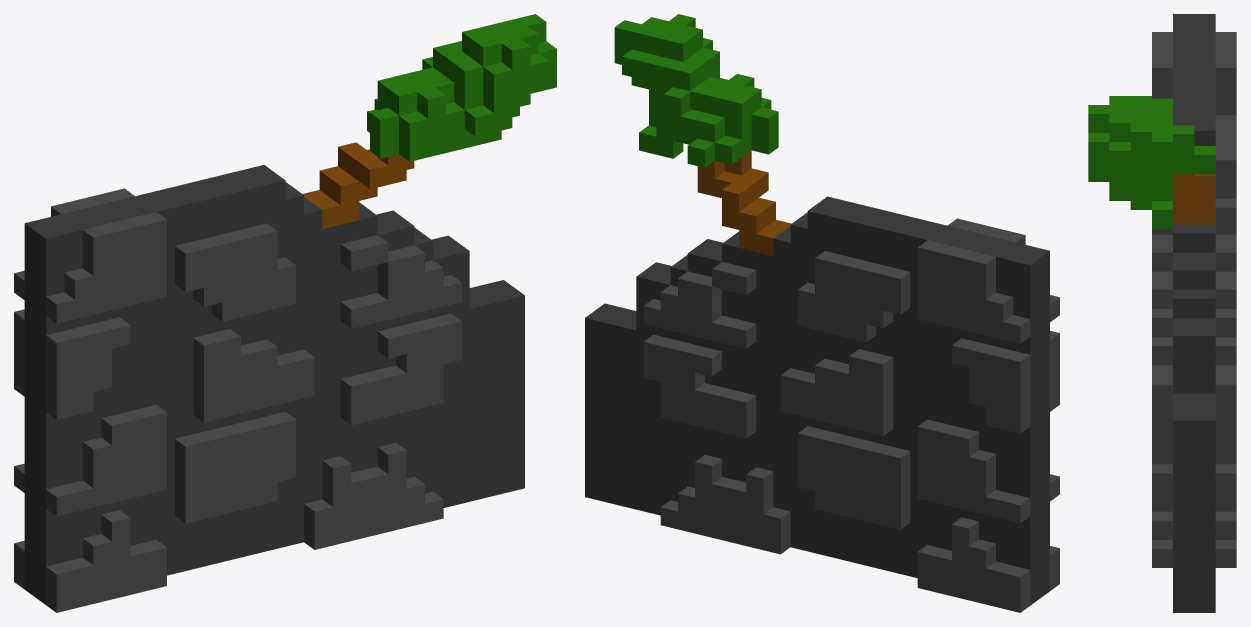
File: Wallsmall.gltf
3 views of the same model, side by side, from view 1: azimuth 30°, elevation 25°; view 2: azimuth 150°, elevation 25°; view 3: azimuth 270°, elevation 25° (orthographic). The views are drawn at different scales.
Parts seen in each view (by area): view 1: Layer.1, Layer.2; view 2: Layer.1, Layer.2; view 3: Layer.1, Layer.2.
Part boxes in pixels (<box>): Layer.1: <box>14,165,524,612</box>; Layer.2: <box>303,14,556,228</box>; Layer.1: <box>585,196,1059,612</box>; Layer.2: <box>614,14,791,255</box>; Layer.1: <box>1152,14,1236,612</box>; Layer.2: <box>1088,96,1215,229</box>.
Bounding box in the file's own units: 26 × 25 × 7.
Materials: 1 (1 with a texture image).
